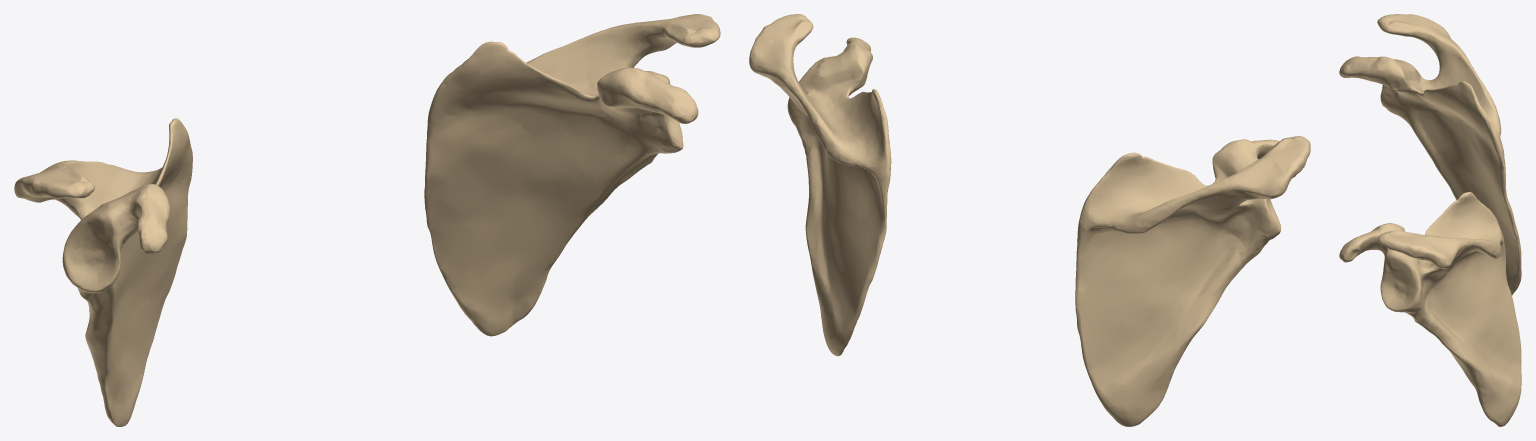
The model's file is explorar-scapula.glb.
3 renders of one model, left to right at view 1: azimuth 30°, elevation 25°; view 2: azimuth 150°, elevation 25°; view 3: azimuth 270°, elevation 25°, orthographic. The views are drawn at different scales.
Visible parts, largest first — view 1: scapula__base, scapula__espina_izquierda, scapula__cavidad_glenoidea_derecha, scapula__acromion_izquierdo, scapula__apofisis_coracoides_izquierda, scapula__espina_derecha, scapula__acromion_derecho, scapula__apofisis_coracoides_derecha; view 2: scapula__base, scapula__espina_derecha, scapula__espina_izquierda, scapula__acromion_derecho, scapula__acromion_izquierdo, scapula__cavidad_glenoidea_derecha, scapula__cavidad_glenoidea_izquierda; view 3: scapula__base, scapula__espina_derecha, scapula__cavidad_glenoidea_izquierda, scapula__acromion_izquierdo, scapula__espina_izquierda, scapula__acromion_derecho, scapula__apofisis_coracoides_derecha, scapula__apofisis_coracoides_izquierda.
Part boxes in pixels (x1,y1,x2,y2): scapula__base: (32, 25, 682, 426); scapula__espina_izquierda: (437, 25, 624, 102); scapula__cavidad_glenoidea_derecha: (62, 214, 116, 293); scapula__acromion_izquierdo: (620, 14, 720, 79); scapula__apofisis_coracoides_izquierda: (622, 73, 698, 123); scapula__espina_derecha: (61, 128, 192, 203); scapula__acromion_derecho: (14, 161, 108, 216); scapula__apofisis_coracoides_derecha: (136, 192, 169, 254); scapula__base: (760, 44, 1274, 426); scapula__espina_derecha: (1085, 164, 1242, 232); scapula__espina_izquierda: (777, 70, 890, 161); scapula__acromion_derecho: (1225, 136, 1310, 198); scapula__acromion_izquierdo: (749, 14, 821, 87); scapula__cavidad_glenoidea_derecha: (1235, 198, 1280, 246); scapula__cavidad_glenoidea_izquierda: (787, 71, 813, 132); scapula__base: (1377, 45, 1521, 426); scapula__espina_derecha: (1442, 47, 1500, 135); scapula__cavidad_glenoidea_izquierda: (1382, 258, 1438, 314); scapula__acromion_izquierdo: (1377, 230, 1464, 268); scapula__espina_izquierda: (1451, 197, 1500, 266); scapula__acromion_derecho: (1377, 14, 1462, 61); scapula__apofisis_coracoides_derecha: (1339, 56, 1380, 83); scapula__apofisis_coracoides_izquierda: (1339, 226, 1380, 262).
Bounding box in the file's own units: 0.3361 × 0.1584 × 0.1104.
